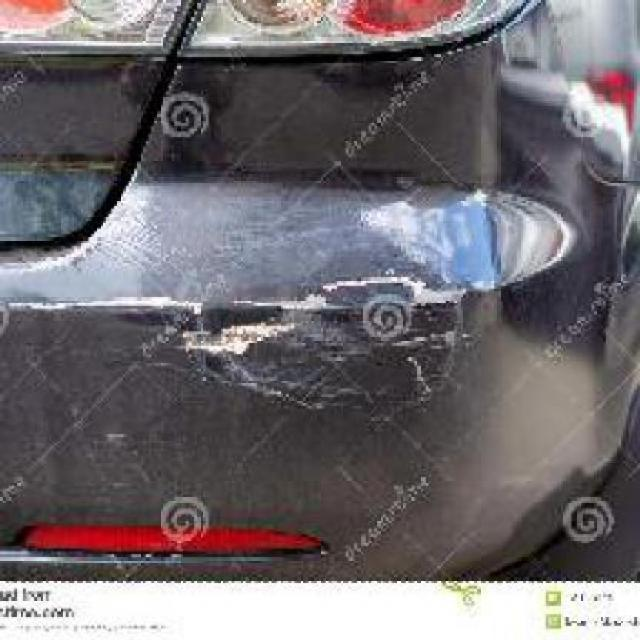dent-or-scratch: (157, 271, 496, 414)
